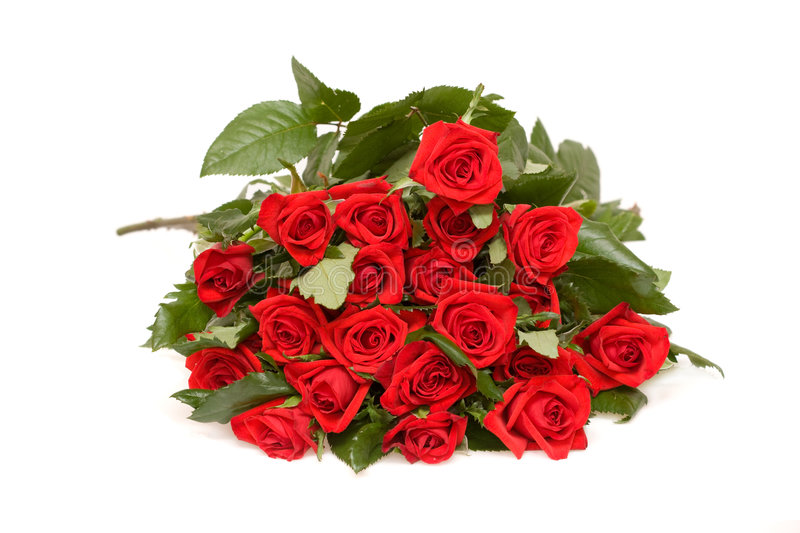RedRose: (399, 122, 505, 213), (498, 375, 593, 471), (220, 382, 317, 464), (335, 169, 413, 255), (582, 300, 660, 378), (179, 340, 268, 406), (519, 202, 585, 290), (443, 292, 518, 364), (324, 251, 418, 308), (421, 207, 502, 270), (272, 185, 335, 263), (188, 241, 259, 309), (397, 396, 469, 463), (394, 345, 480, 398), (302, 360, 374, 415), (333, 317, 404, 369), (269, 285, 317, 361)
